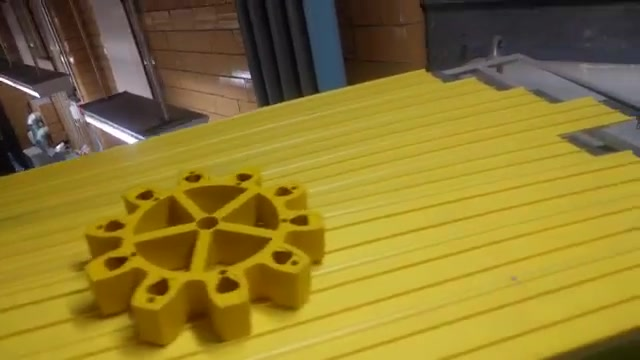gear: (63, 160, 350, 354)
